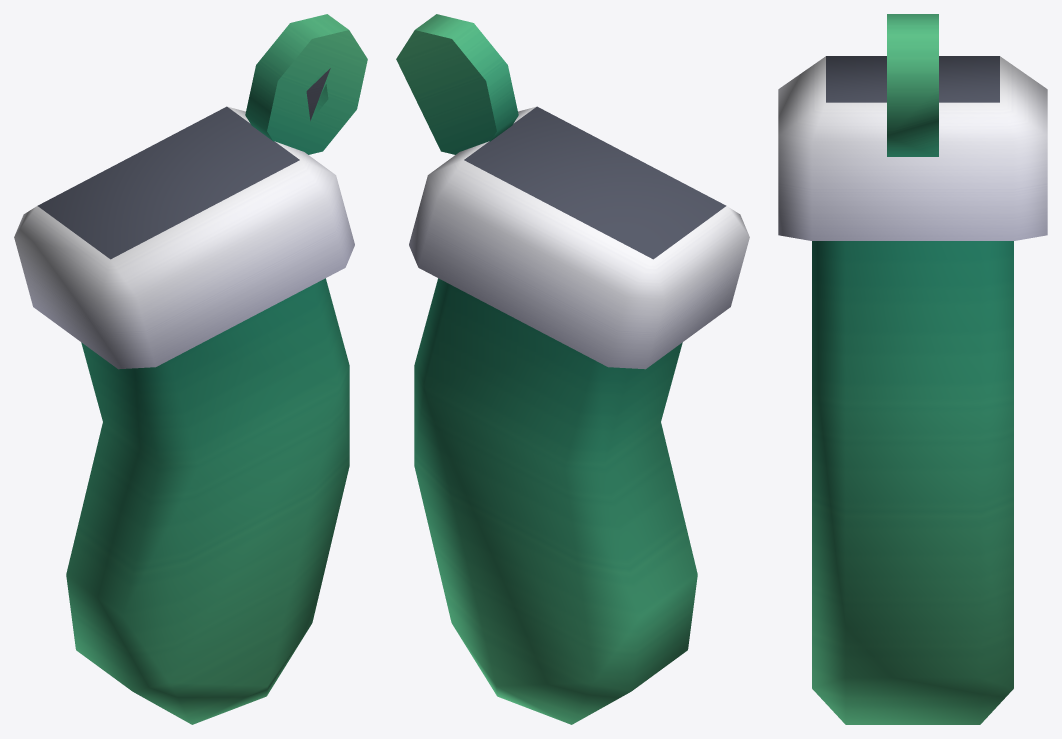
Rendered from cc0-sock-lod1.glb.
3 renders of one model, left to right at view 1: azimuth 30°, elevation 25°; view 2: azimuth 150°, elevation 25°; view 3: azimuth 270°, elevation 25°, orthographic. The views are drawn at different scales.
Visible parts, largest first — view 1: part_0; view 2: part_0; view 3: part_0.
Part boxes in pixels (x1,y1,x2,y2): part_0: (14, 14, 367, 724); part_0: (396, 14, 749, 724); part_0: (778, 14, 1047, 724).
Size of the model in its own units: 0.3061 by 0.6229 by 0.2.
Materials: 1 (1 with a texture image).
